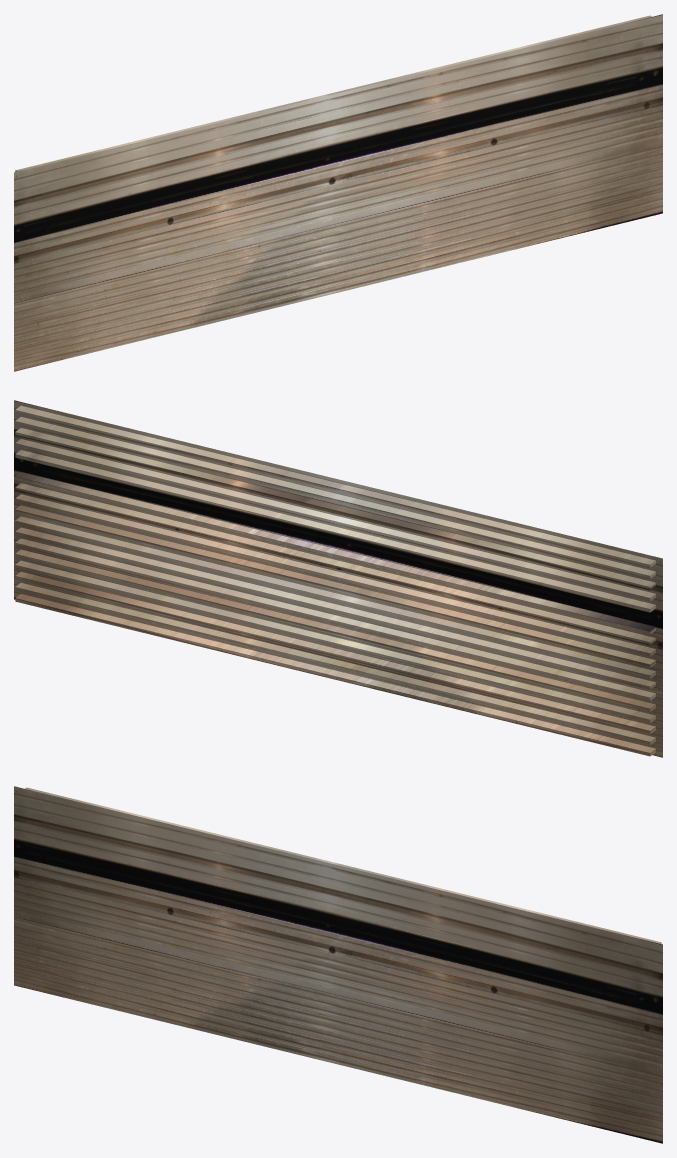
The model's file is FloorMetal.FBX.
3 renders of one model, top to bottom at view 1: azimuth 30°, elevation 25°; view 2: azimuth 150°, elevation 25°; view 3: azimuth 330°, elevation 25°, orthographic.
Visible parts, largest first — view 1: Box001; view 2: Box001; view 3: Box001.
Part boxes in pixels (left/top/right/bottom): Box001: left=14, top=14, right=662, bottom=371; Box001: left=14, top=400, right=662, bottom=757; Box001: left=14, top=786, right=662, bottom=1143.
Size of the model in its own units: 130 by 38.09 by 2.
Materials: 1 (1 with a texture image).
